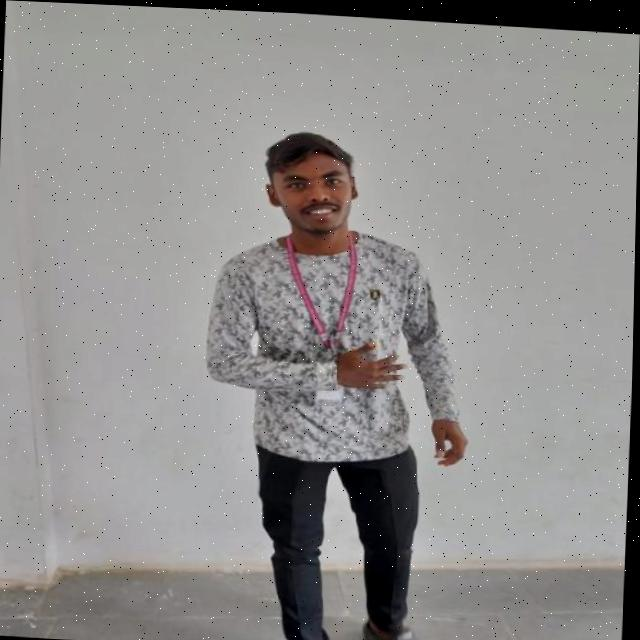id_card: (276, 228, 370, 405)
